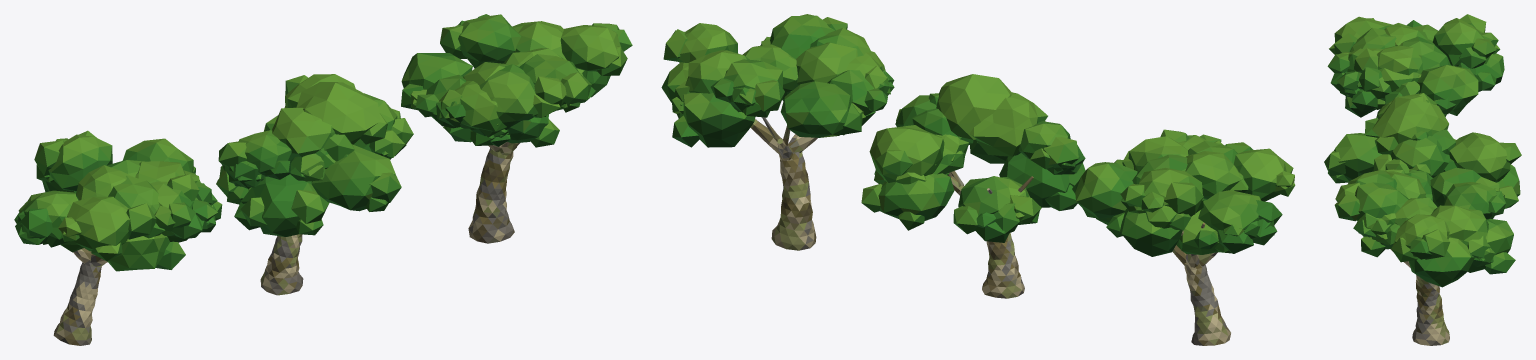
The model's file is plane_tree.glb.
The picture shows the model from 3 angles, left to right: view 1: azimuth 30°, elevation 25°; view 2: azimuth 150°, elevation 25°; view 3: azimuth 270°, elevation 25°; orthographic projection. The views are drawn at different scales.
Visible parts, largest first — view 1: plane_tree_c, plane_tree_b, plane_tree_a; view 2: plane_tree_c, plane_tree_b, plane_tree_a; view 3: plane_tree_c, plane_tree_a, plane_tree_b.
Part boxes in pixels (x1,y1,x2,y2): plane_tree_c: [401, 14, 632, 243]; plane_tree_b: [216, 74, 413, 295]; plane_tree_a: [14, 130, 222, 345]; plane_tree_c: [661, 14, 894, 250]; plane_tree_b: [861, 74, 1085, 298]; plane_tree_a: [1072, 129, 1295, 345]; plane_tree_c: [1334, 167, 1515, 345]; plane_tree_a: [1327, 14, 1504, 117]; plane_tree_b: [1324, 93, 1521, 208].
Size of the model in its own units: 23.6 by 7.48 by 7.77.
